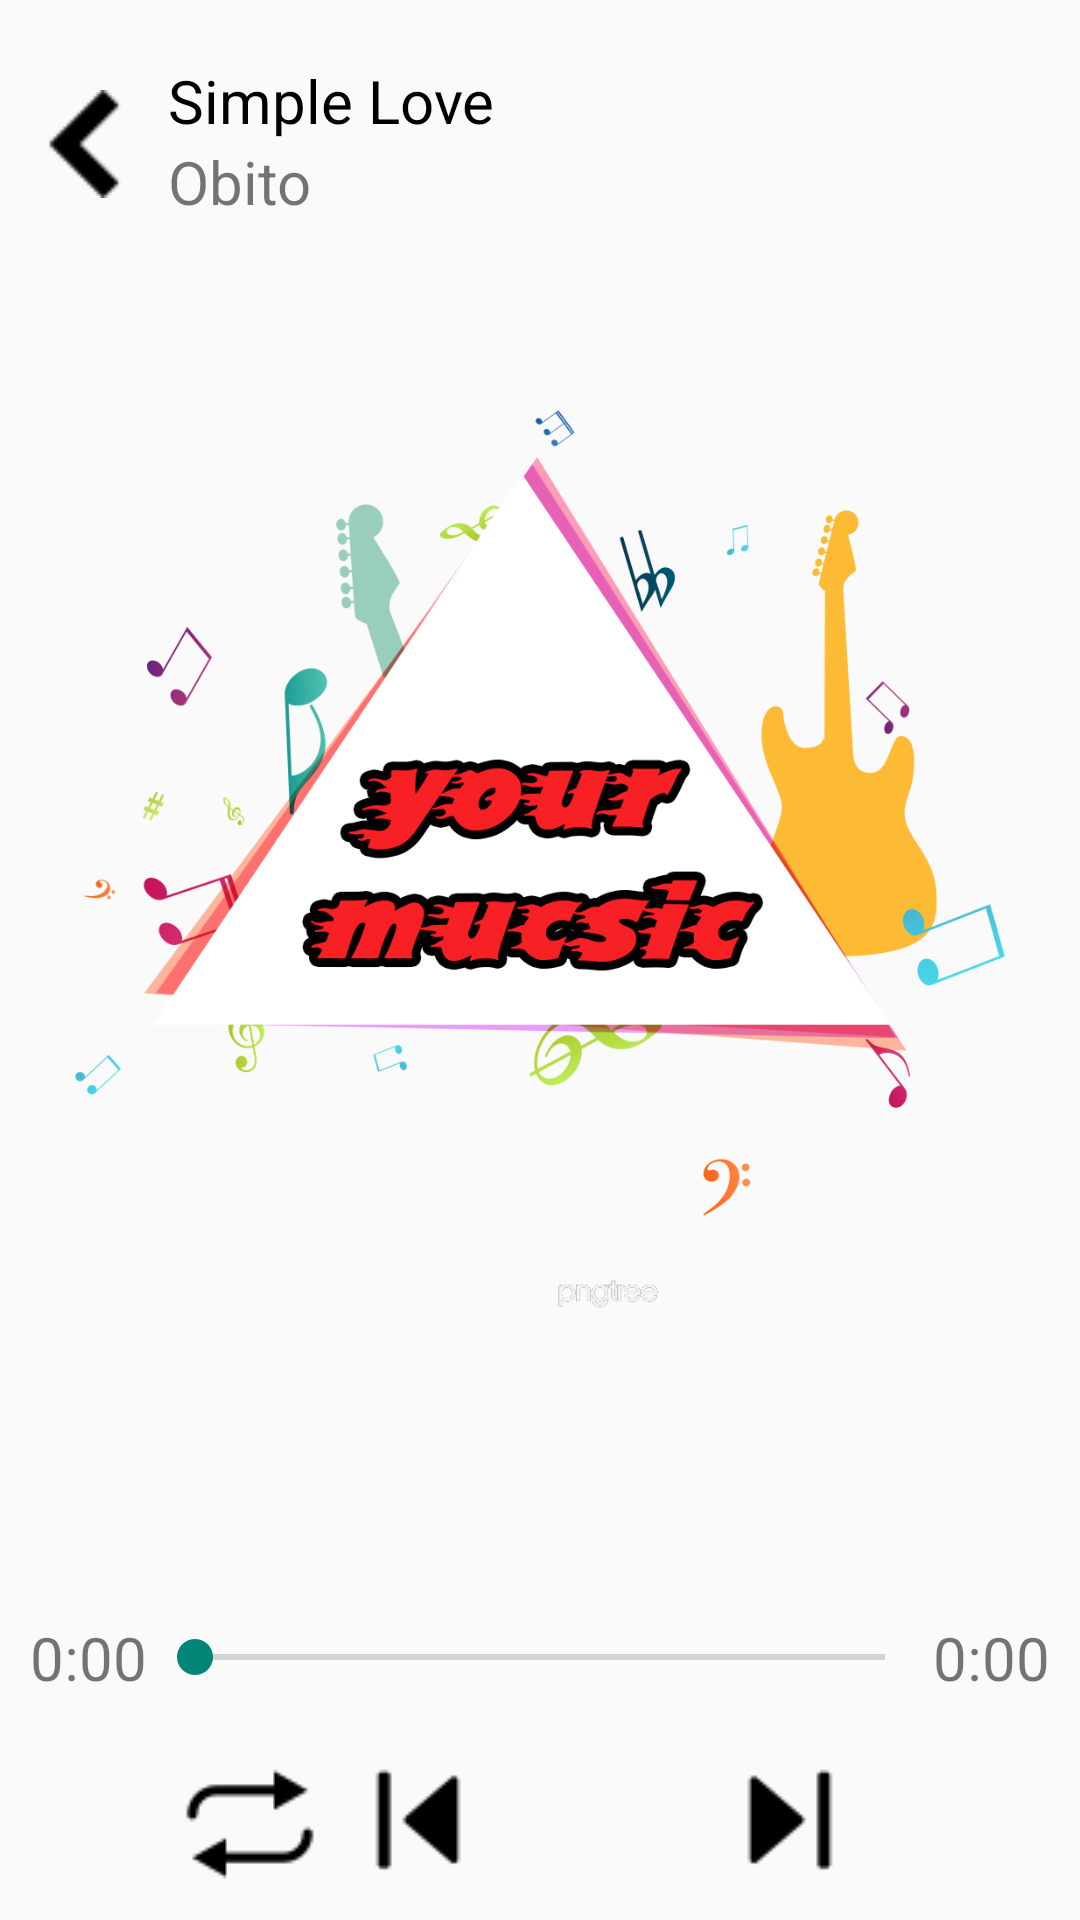

Locate icon controls on the screen. Image size 1080 x 1920, boxes as (x1,y1,x2,y2).
back: (49,90,119,198), (375,1769,461,1870)
next: (747,1769,833,1870)
repeat: (186,1769,314,1879)
